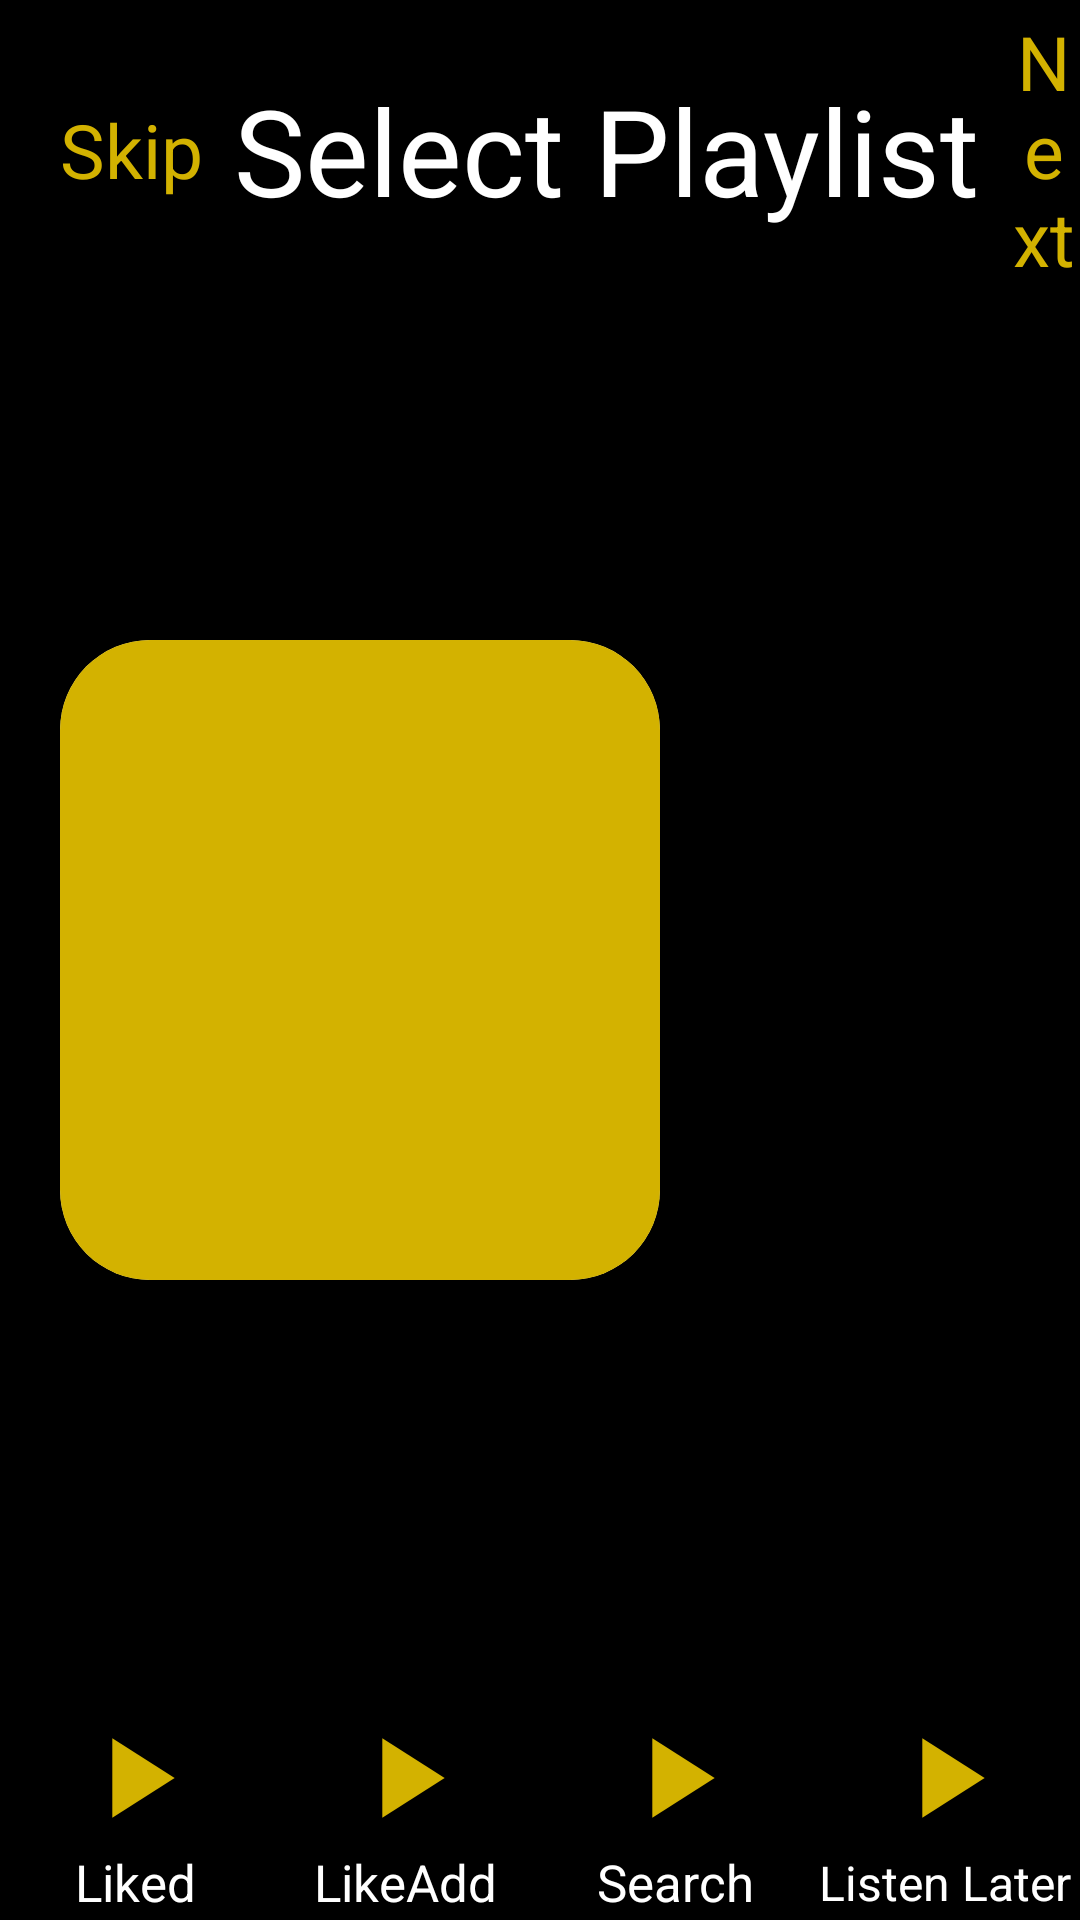

Point at icon controls on the screen. Image size 1080 × 1920, points as [x,y].
playbtn: [143,1778], [413,1778], [683,1778], [953,1778]
